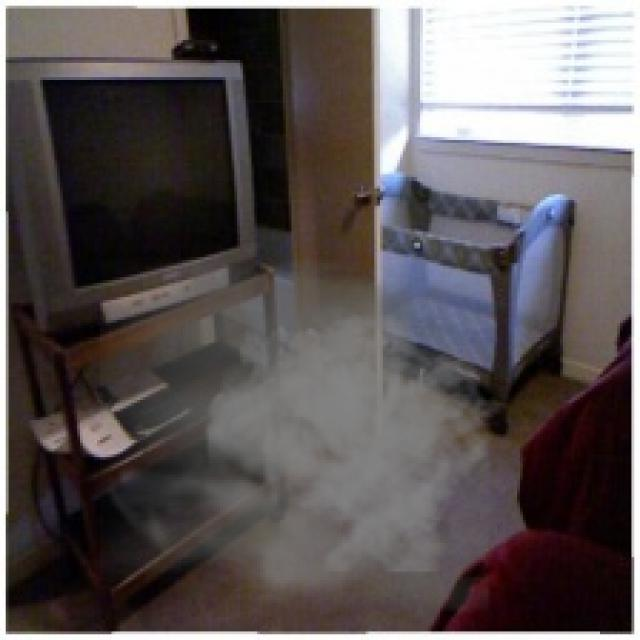smoke: (100, 257, 503, 612)
